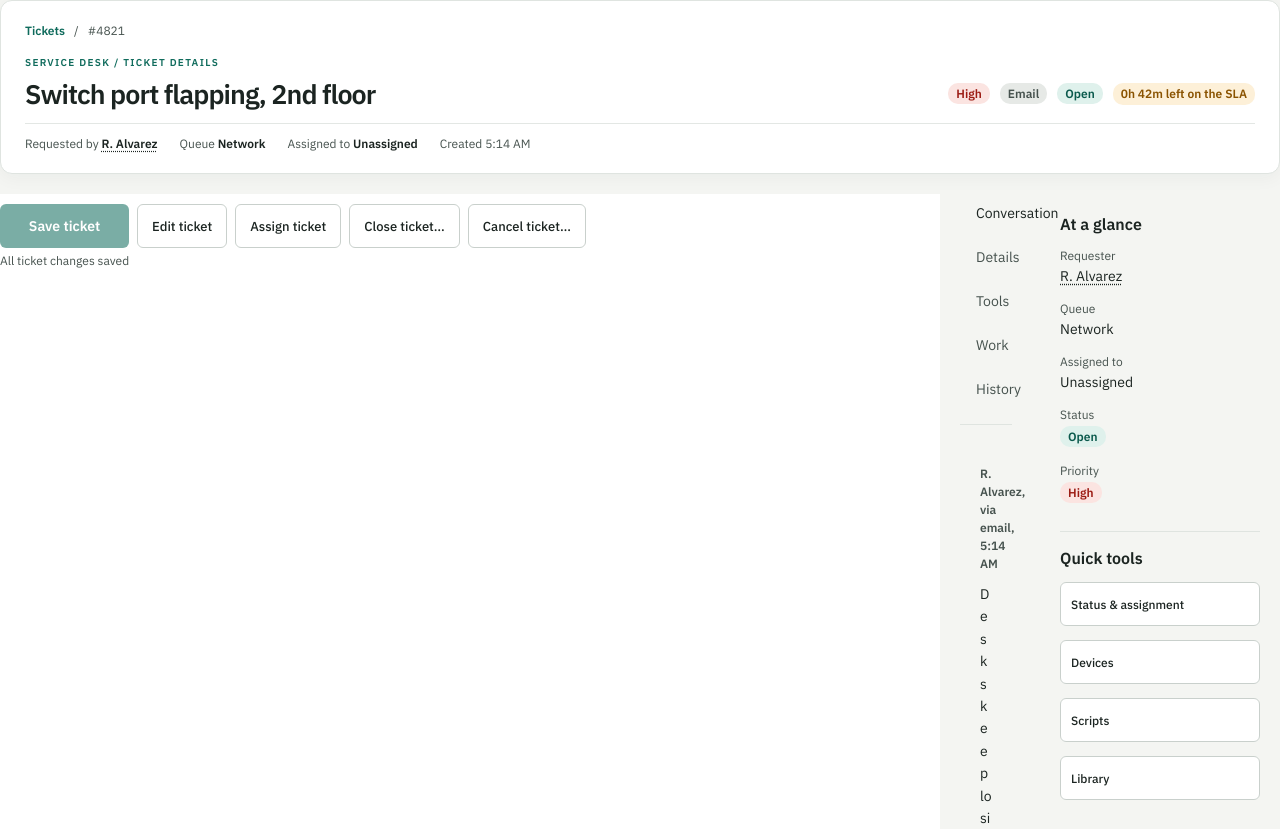
Scenario: ticket › focus exposes conversation, files, routing and history through their tabs
The image size is (1280, 829).
Expected: the heading "Switch port flapping, 2nd floor" is shown, [25,76,375,111]
Expected: the text "0h 42m left on the SLA" is shown, [1113,82,1255,104]
Click the tab "Tools": (993, 301) [960,282,1025,320]
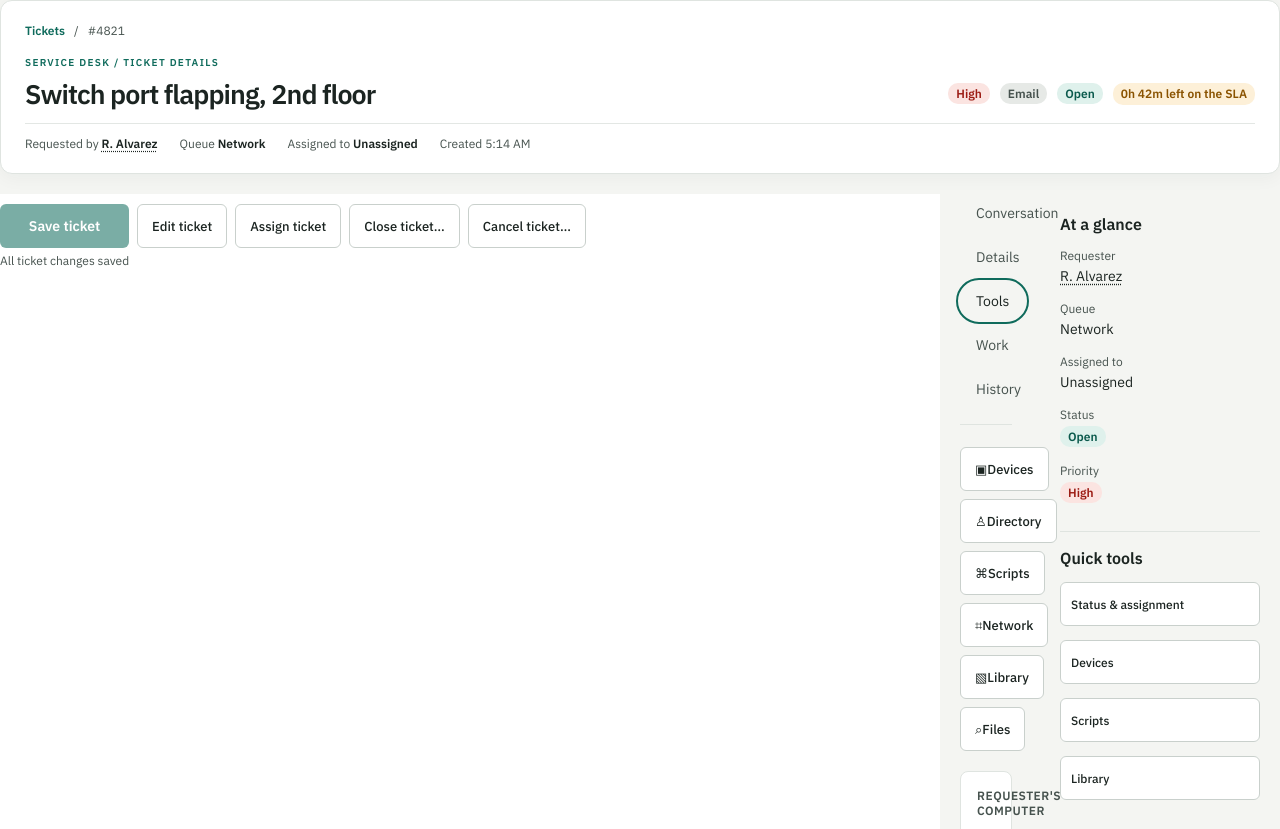
Click the button "⌕Files": (993, 729) [960,707,1026,751]
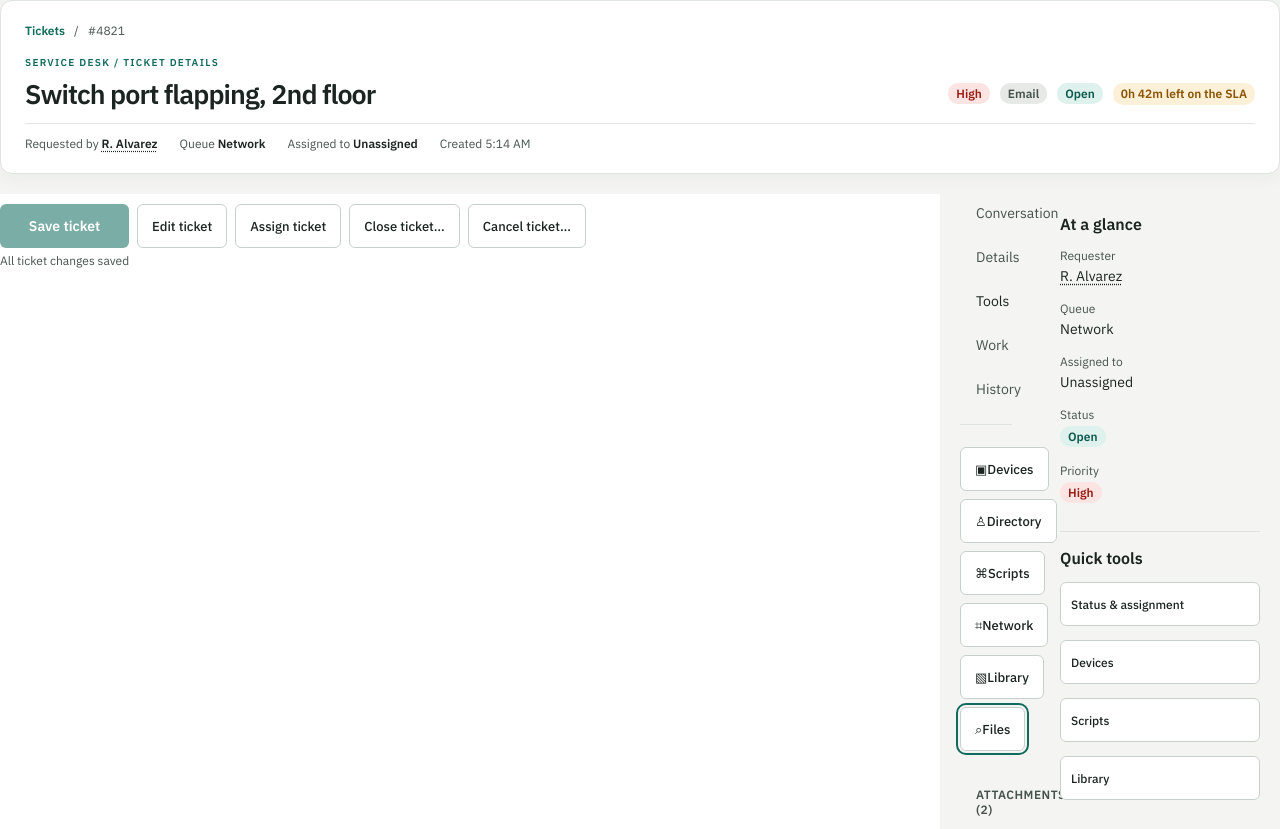
Click the tab "Details": (998, 257) [960,238,1036,276]
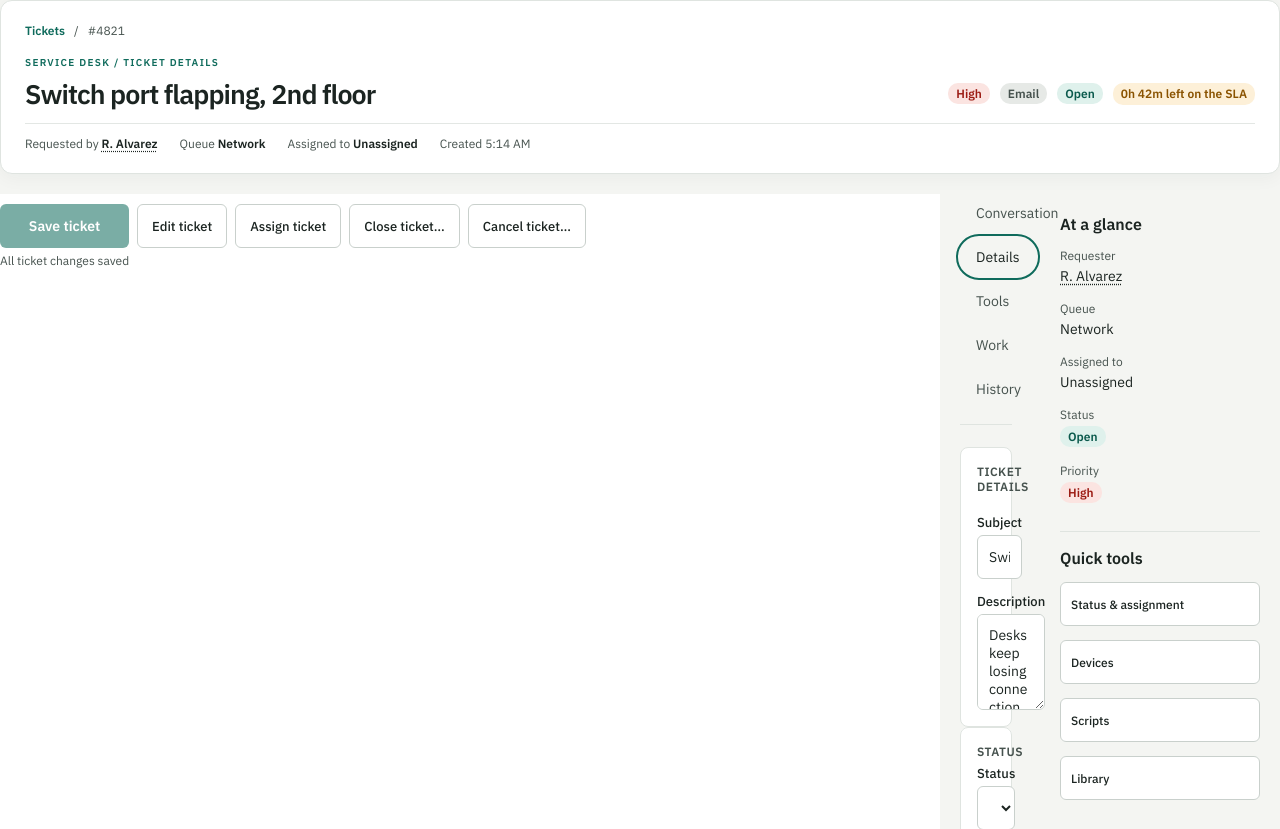
Click the tab "History": (999, 389) [960,370,1037,408]
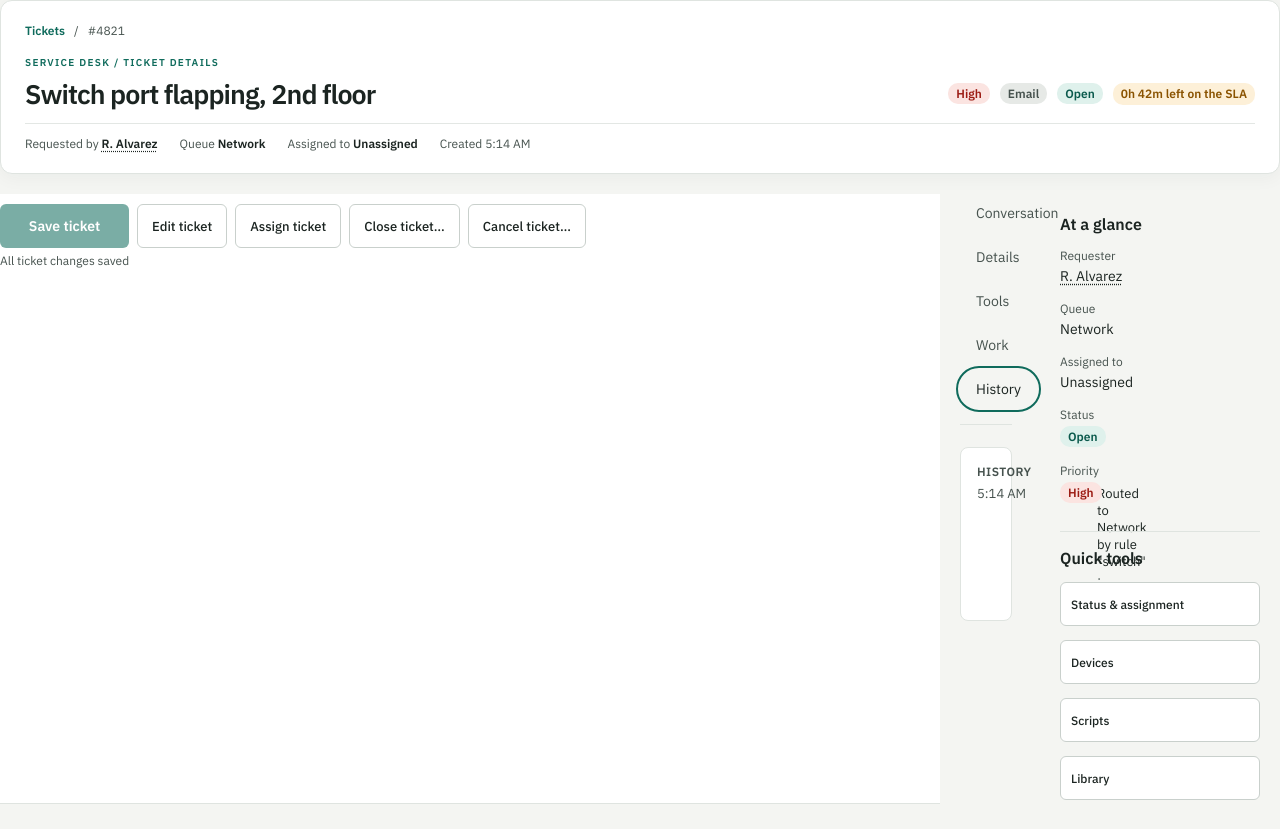
Expected: the text "Routed to Network by rule \"switch\"" is shown, [1097,485,1147,570]
